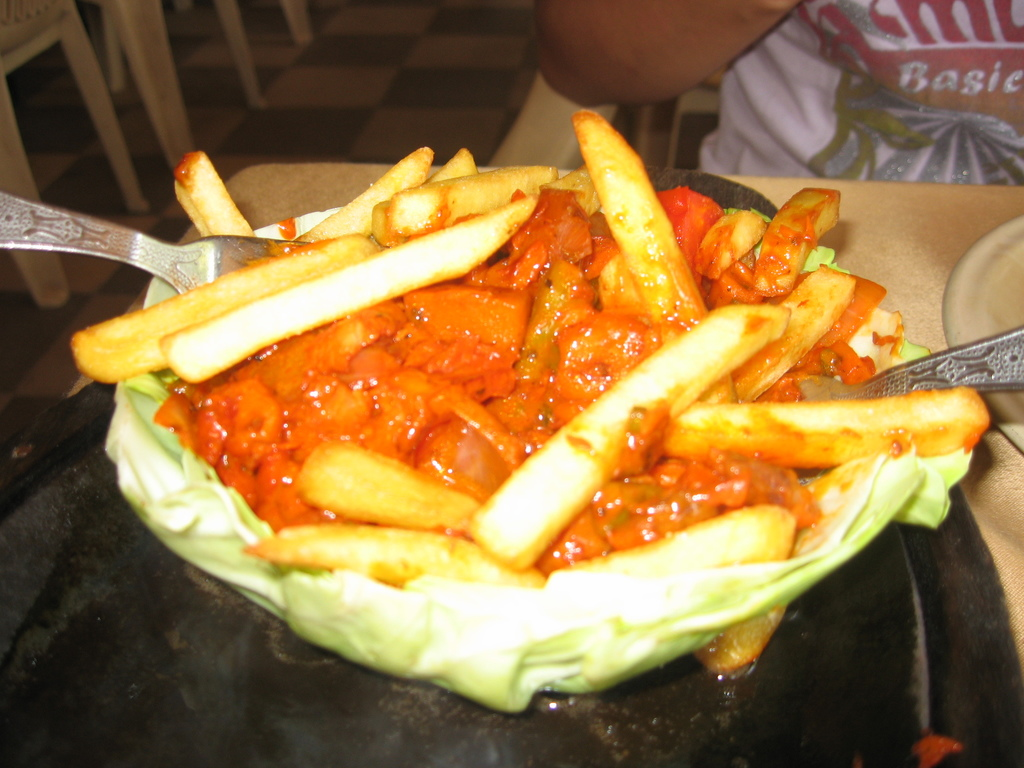French fries: (71, 99, 994, 687)
